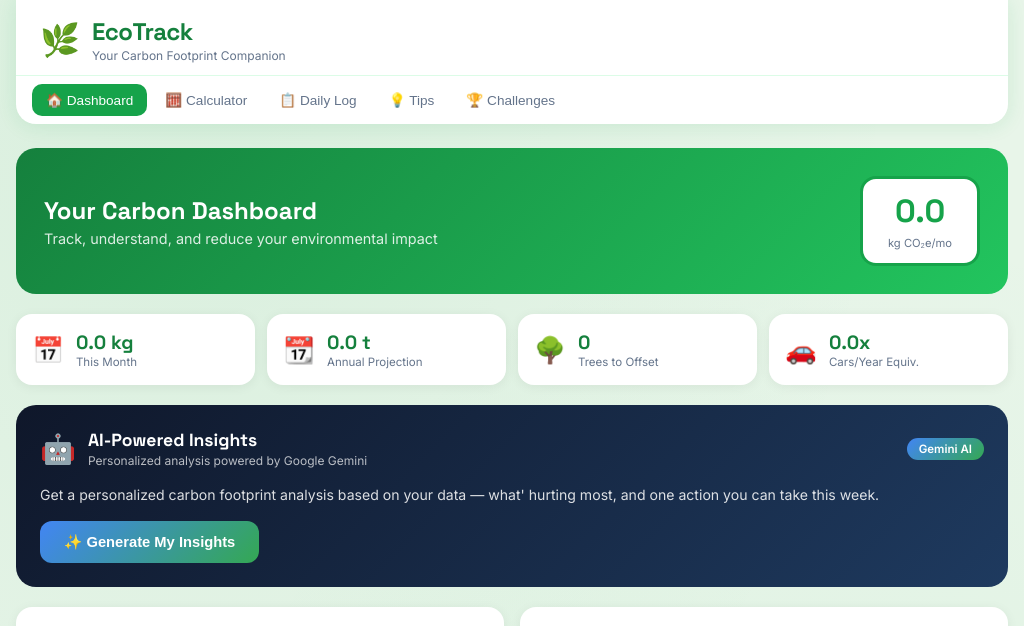
Test case: Tips interaction › can commit to a tip and see savings banner
Click the button "💡 Tips" at (411, 100), box [375, 84, 448, 116]
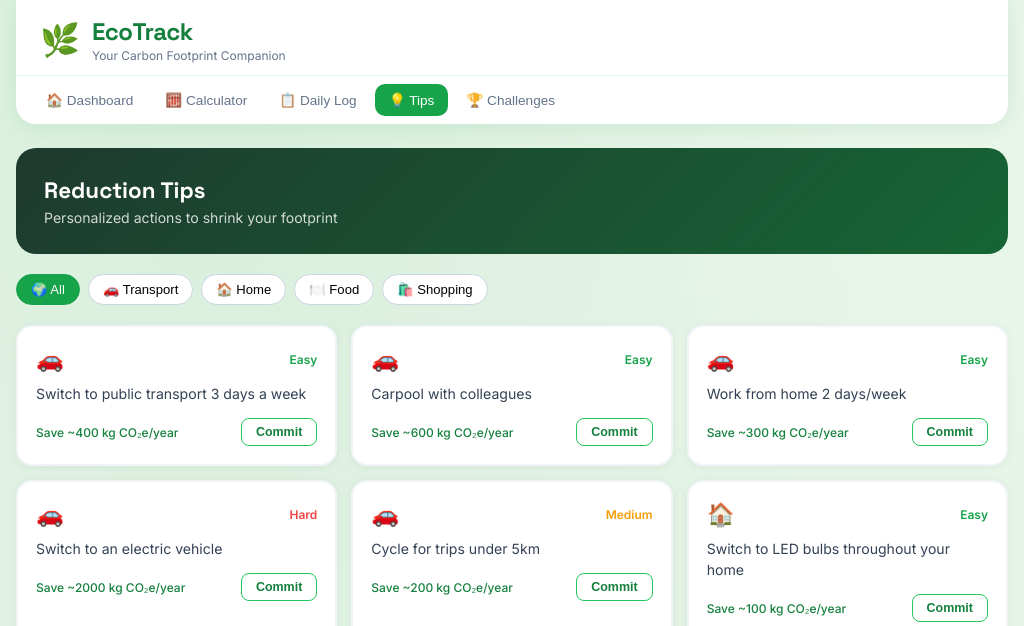
Click the button with aria-label "commit to:" at (279, 432), box [241, 418, 317, 446]
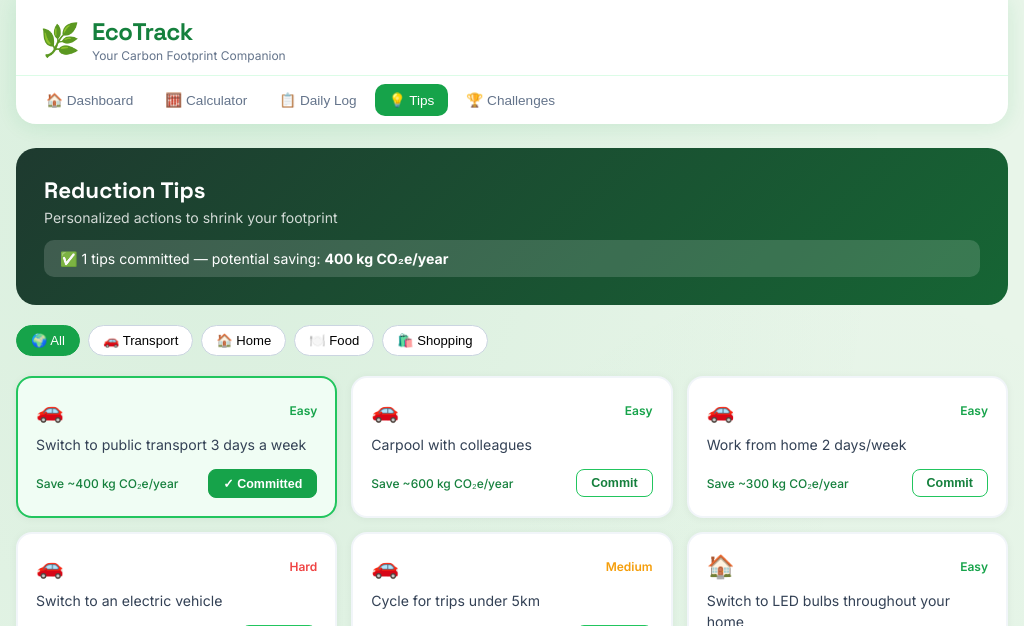
Now the text "✅ 1 tips committed — potential saving: 400 kg CO₂e/year" is shown, box [44, 240, 980, 277]
